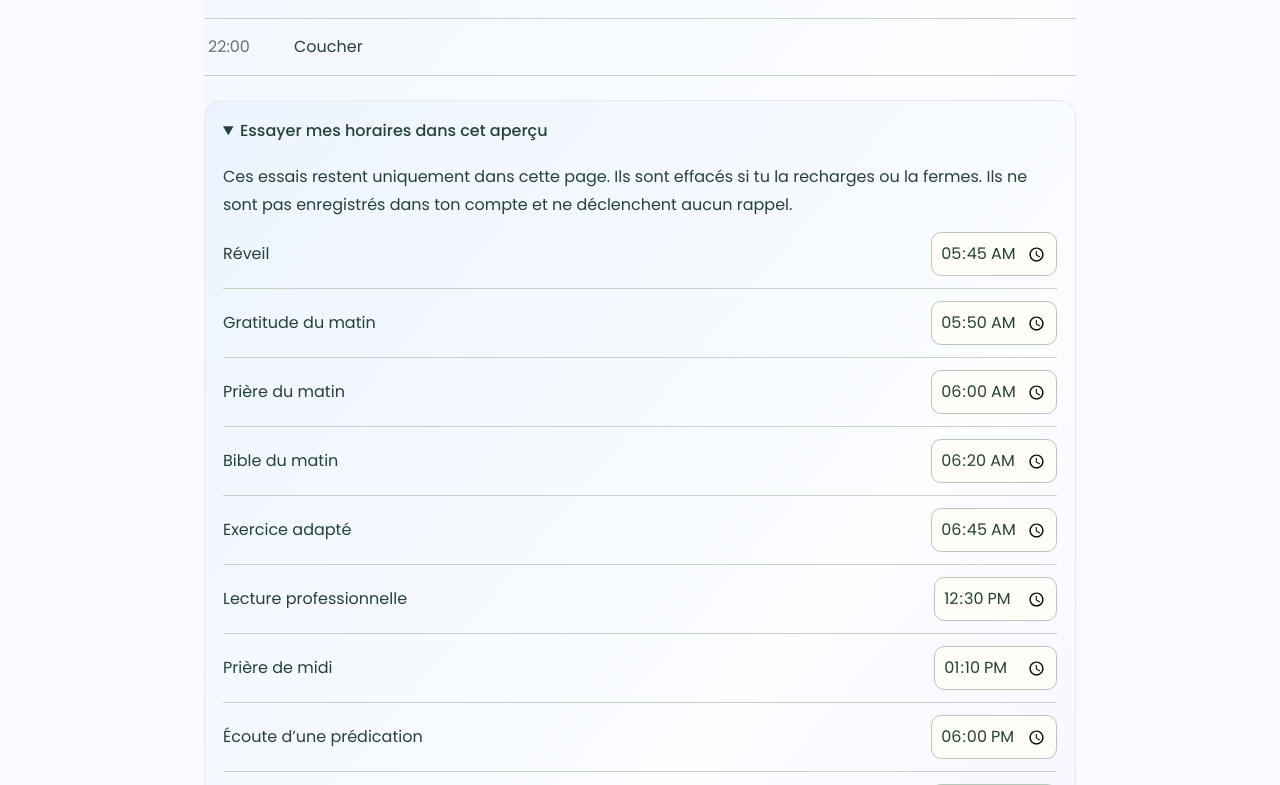
Test: l’essai des horaires change la journée sans stockage ni appel réseau
Later steps or results of the test are not shown.
(page scrolled)
Replace the text in the time field labelled "Prière du matin" with "07:15": {"x": 994, "y": 392} x1=931 y1=370 x2=1057 y2=414
(page scrolled)
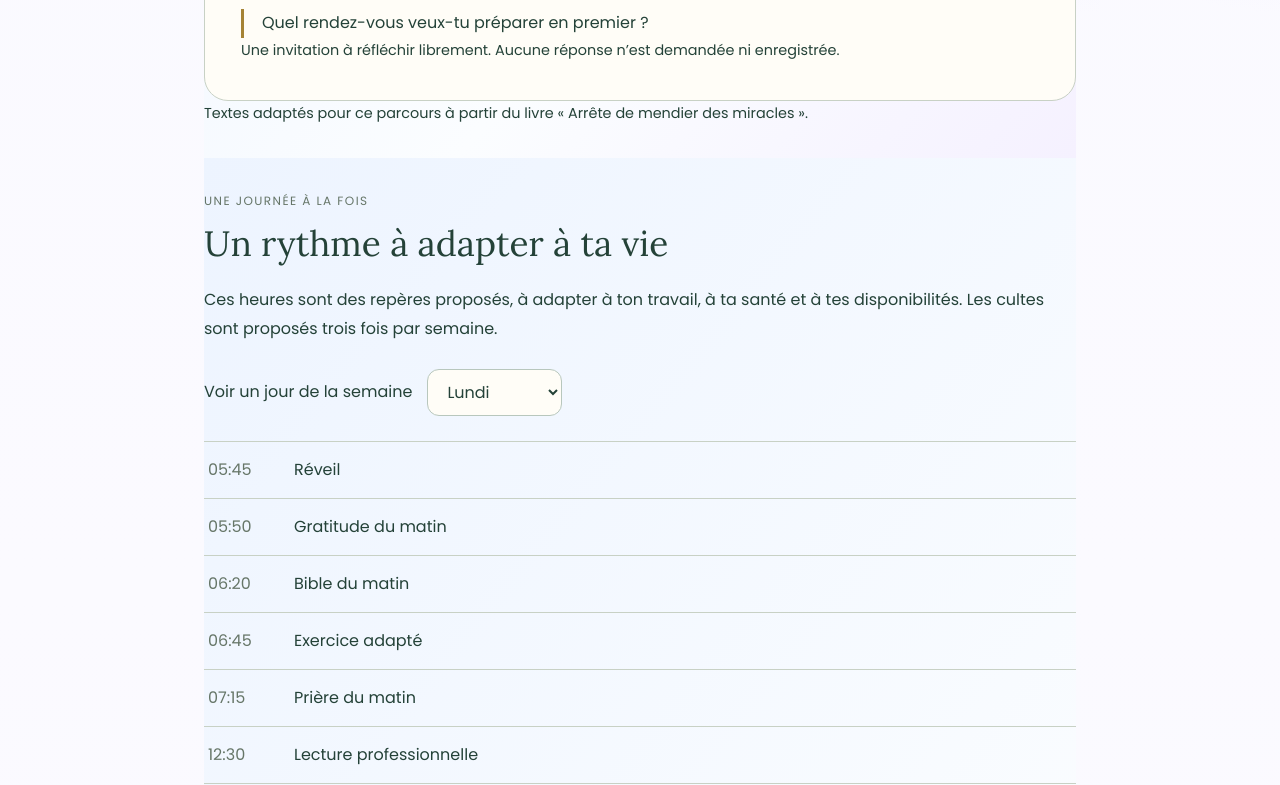
Now the text "07:15" is shown, box x1=208 y1=686 x2=245 y2=709
